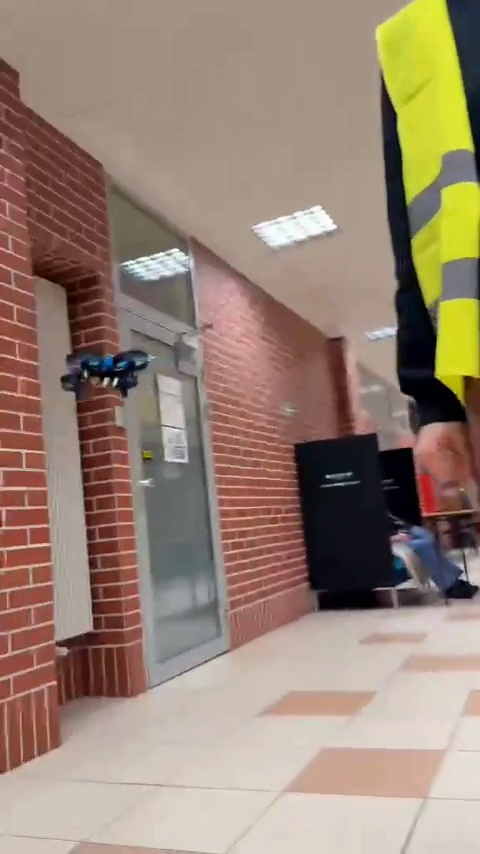drone: (60, 355, 159, 390)
